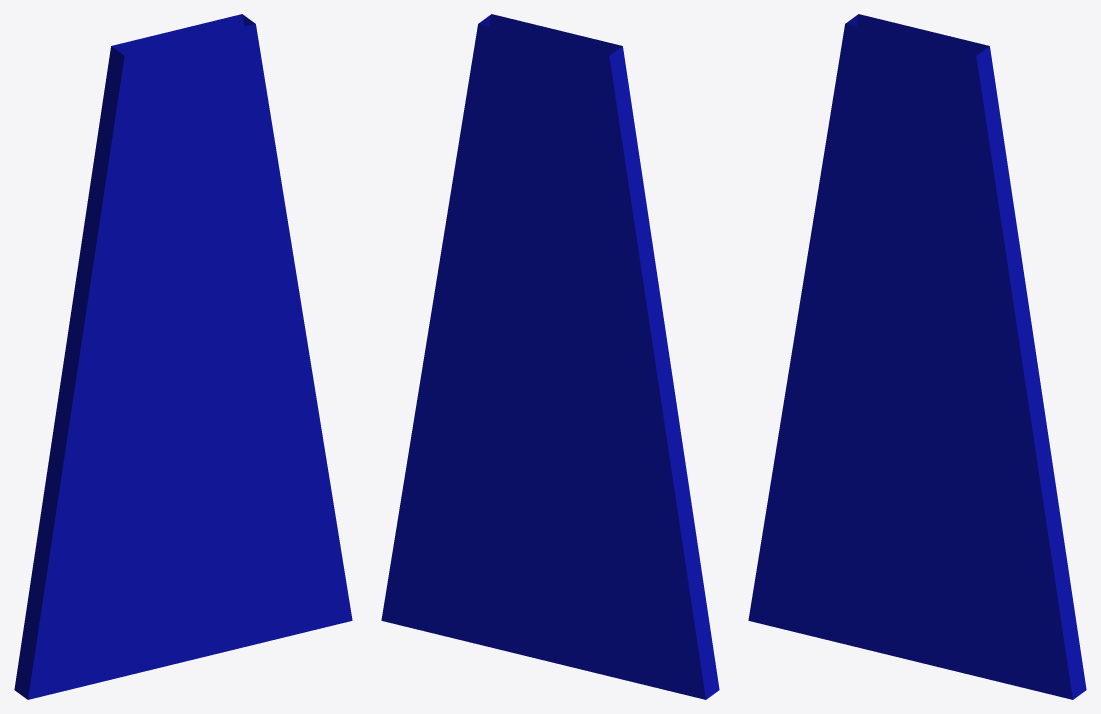
File: indicator_light_001.fbx
3 views of the same model, side by side, from view 1: azimuth 30°, elevation 25°; view 2: azimuth 150°, elevation 25°; view 3: azimuth 330°, elevation 25° (orthographic).
Visible parts, largest first — view 1: indicator_light_001; view 2: indicator_light_001; view 3: indicator_light_001.
Boxes of the visible parts, bbox=[...] form: indicator_light_001: bbox=[14, 14, 352, 699]; indicator_light_001: bbox=[381, 14, 719, 699]; indicator_light_001: bbox=[748, 14, 1086, 699].
Bounding box in the file's own units: 153 × 11.03 × 279.
